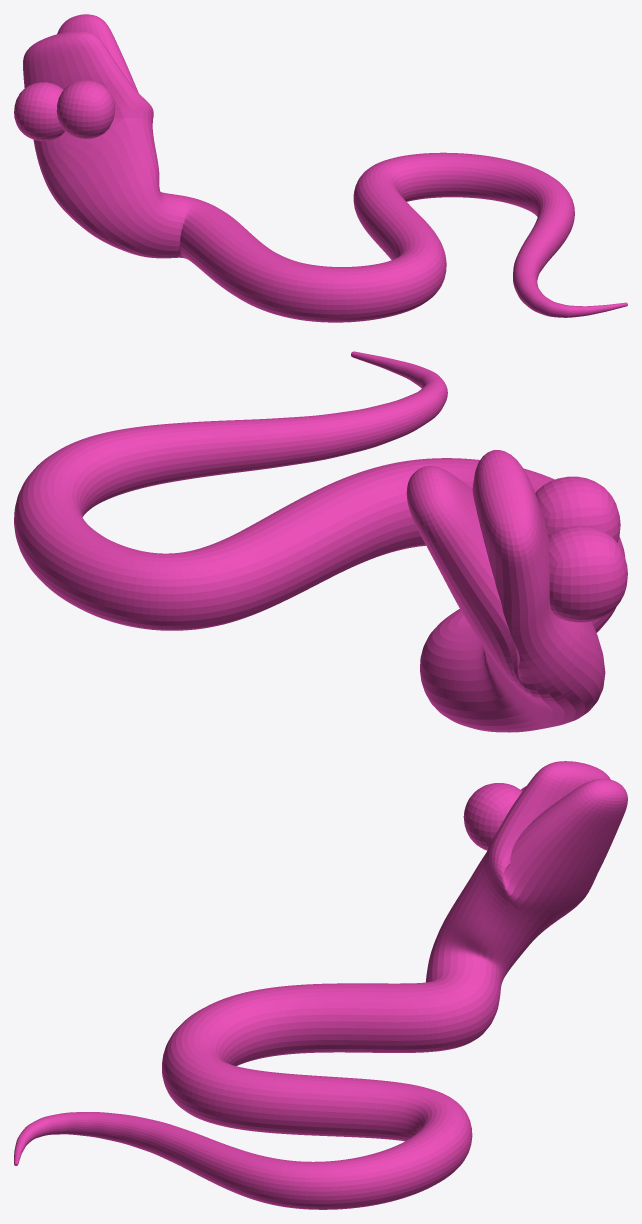
File: snake8.glb
The picture shows the model from 3 angles, top to bottom: view 1: azimuth 30°, elevation 25°; view 2: azimuth 150°, elevation 25°; view 3: azimuth 270°, elevation 25°; orthographic projection. The views are drawn at different scales.
Visible parts, largest first — view 1: Cube.002; view 2: Cube.002; view 3: Cube.002.
Part boxes in pixels (x1,y1,x2,y2): Cube.002: (14, 14, 627, 322); Cube.002: (14, 351, 627, 732); Cube.002: (14, 761, 627, 1209).
Size of the model in its own units: 0.5437 by 0.2404 by 0.5437.
